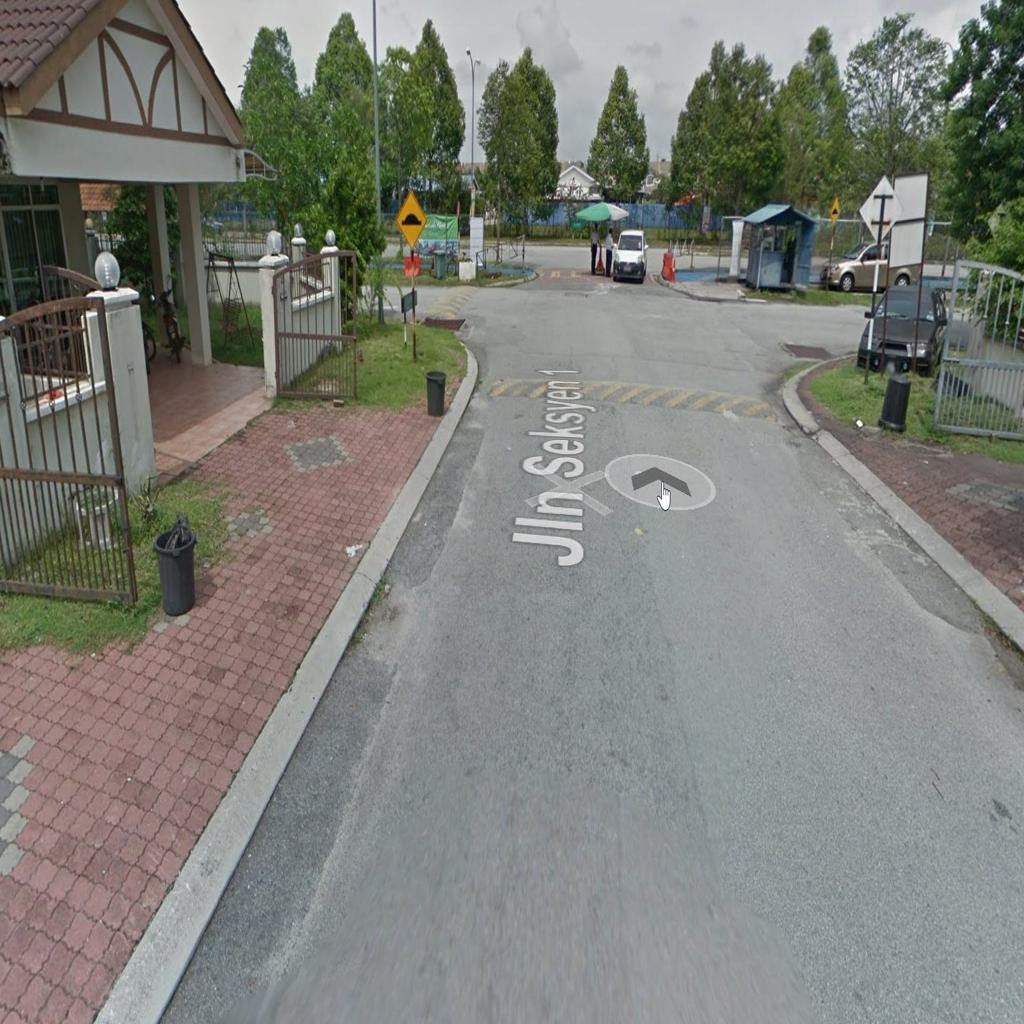Junction: (360, 258, 516, 392), (700, 280, 895, 383)
